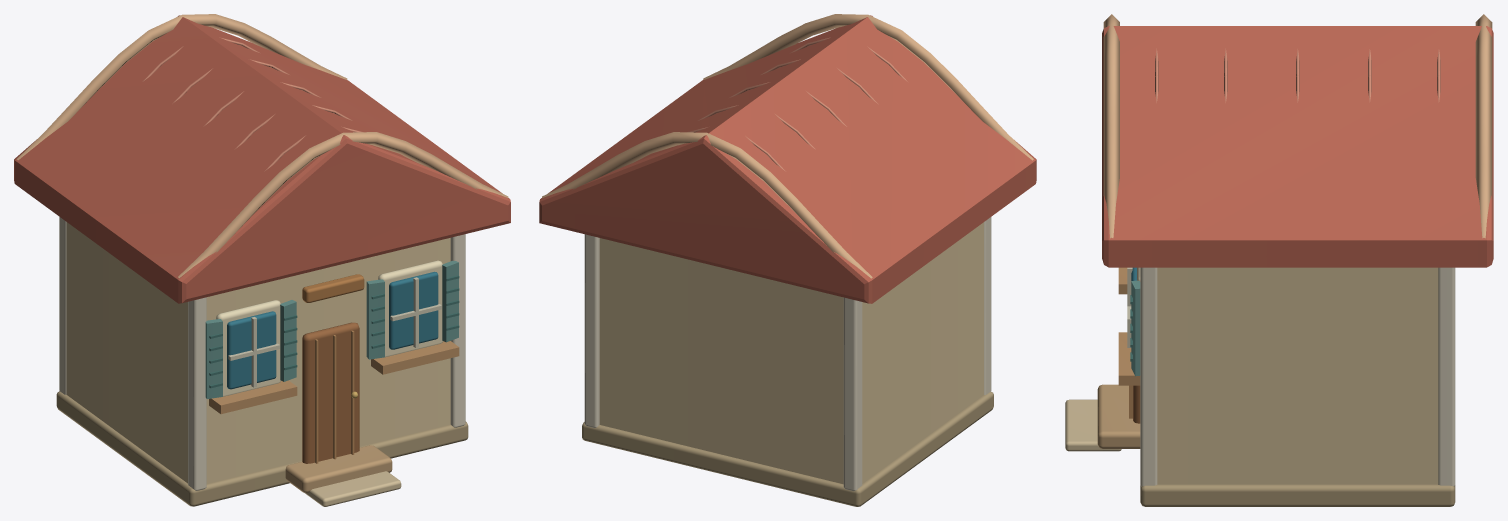
The model's file is house.glb.
The picture shows the model from 3 angles, left to right: view 1: azimuth 30°, elevation 25°; view 2: azimuth 150°, elevation 25°; view 3: azimuth 270°, elevation 25°; orthographic projection. The views are drawn at different scales.
Bounding box in the file's own units: 2.95 × 2.99 × 2.85.
